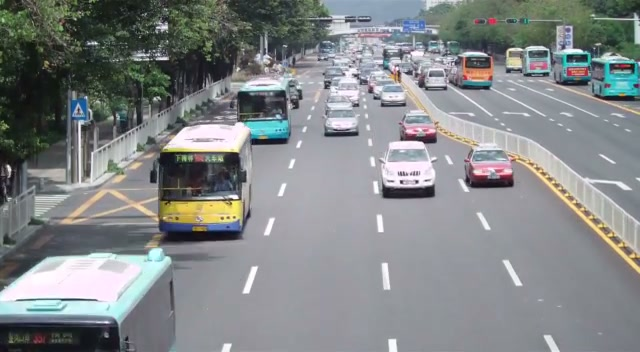bus: (1, 247, 176, 352), (157, 122, 254, 236), (237, 75, 291, 143), (589, 54, 639, 99), (450, 51, 494, 88), (552, 48, 592, 85), (522, 46, 551, 78), (505, 48, 524, 73)
car: (377, 140, 437, 198), (463, 146, 515, 188), (322, 97, 360, 136), (398, 111, 438, 144), (379, 84, 407, 107), (424, 68, 448, 91)
pedestrian: (213, 169, 232, 192)
